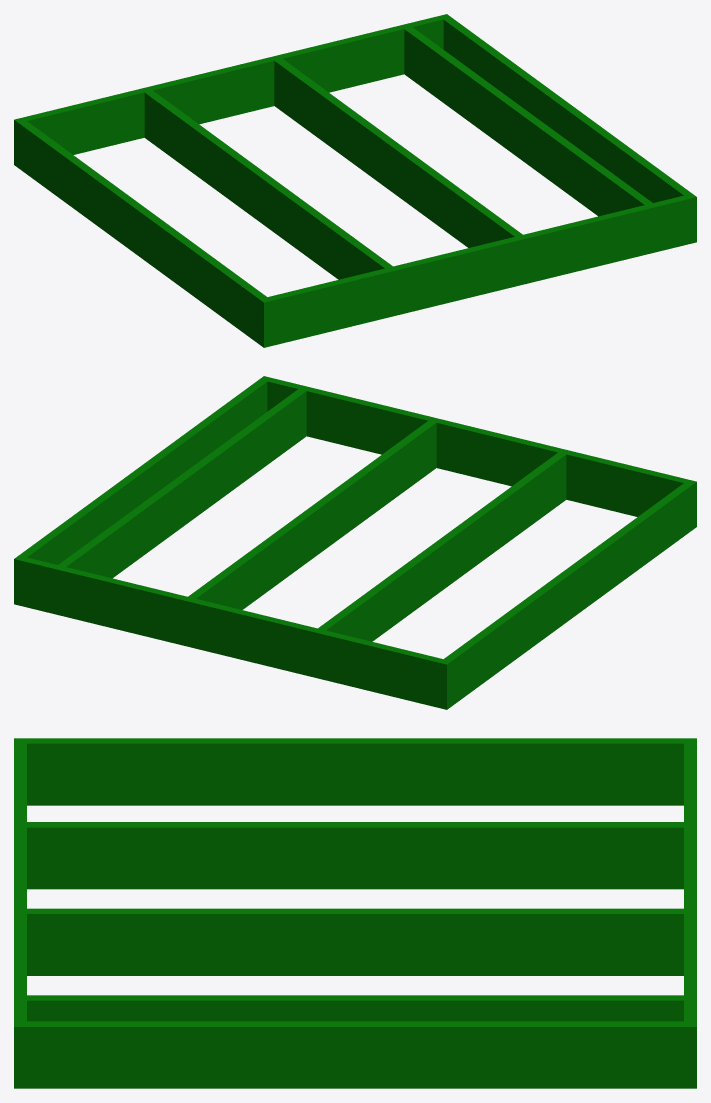
Rendered from wall.glb.
3 renders of one model, top to bottom at view 1: azimuth 30°, elevation 25°; view 2: azimuth 150°, elevation 25°; view 3: azimuth 270°, elevation 25°, orthographic. The views are drawn at different scales.
Parts seen in each view (by area): view 1: shape_11, shape_10, shape_5, shape_6, shape_7, shape_8, shape_9; view 2: shape_10, shape_11, shape_5, shape_6, shape_7, shape_8, shape_9; view 3: shape_5, shape_6, shape_7, shape_9, shape_8, shape_10, shape_11.
Boxes of the visible parts, box(x1,y1,x2,y2) form: shape_11: box(259, 193, 696, 347); shape_10: box(14, 14, 451, 167); shape_5: box(18, 121, 266, 343); shape_6: box(144, 90, 392, 279); shape_7: box(274, 59, 522, 247); shape_8: box(404, 27, 652, 216); shape_9: box(443, 17, 691, 202); shape_10: box(14, 555, 451, 709); shape_11: box(259, 376, 696, 529); shape_5: box(444, 483, 692, 705); shape_6: box(318, 452, 566, 641); shape_7: box(188, 421, 436, 609); shape_8: box(58, 389, 306, 578); shape_9: box(19, 379, 267, 564); shape_5: box(27, 738, 683, 805); shape_6: box(27, 822, 683, 889); shape_7: box(27, 908, 683, 975); shape_9: box(27, 1021, 683, 1088); shape_8: box(27, 995, 683, 1021); shape_10: box(684, 738, 696, 1088); shape_11: box(14, 738, 26, 1088).
Size of the model in its own units: 2000 by 200 by 2000.
